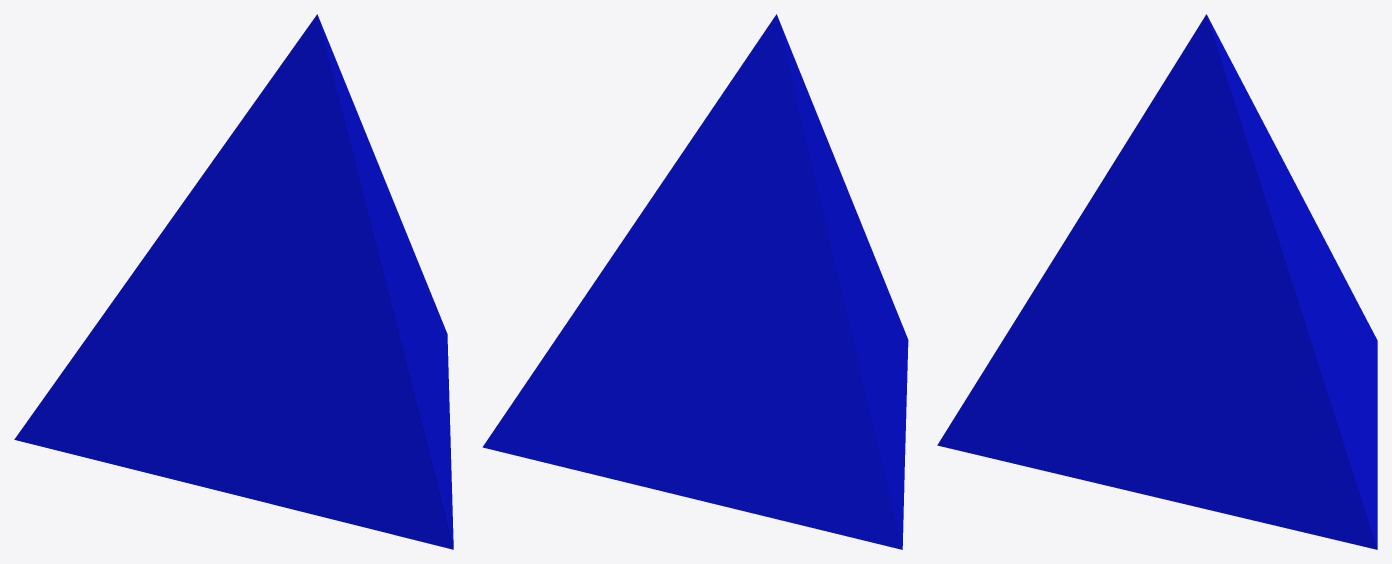
File: 8. Limas segitiga.fbx
3 views of the same model, side by side, from view 1: azimuth 30°, elevation 25°; view 2: azimuth 150°, elevation 25°; view 3: azimuth 270°, elevation 25° (orthographic). The views are drawn at different scales.
Visible parts, largest first — view 1: Cube.004; view 2: Cube.004; view 3: Cube.004.
Boxes of the visible parts, bbox=[...] form: Cube.004: bbox=[14, 14, 453, 549]; Cube.004: bbox=[482, 14, 908, 549]; Cube.004: bbox=[937, 14, 1377, 549].
Size of the model in its own units: 776 by 746 by 691.
